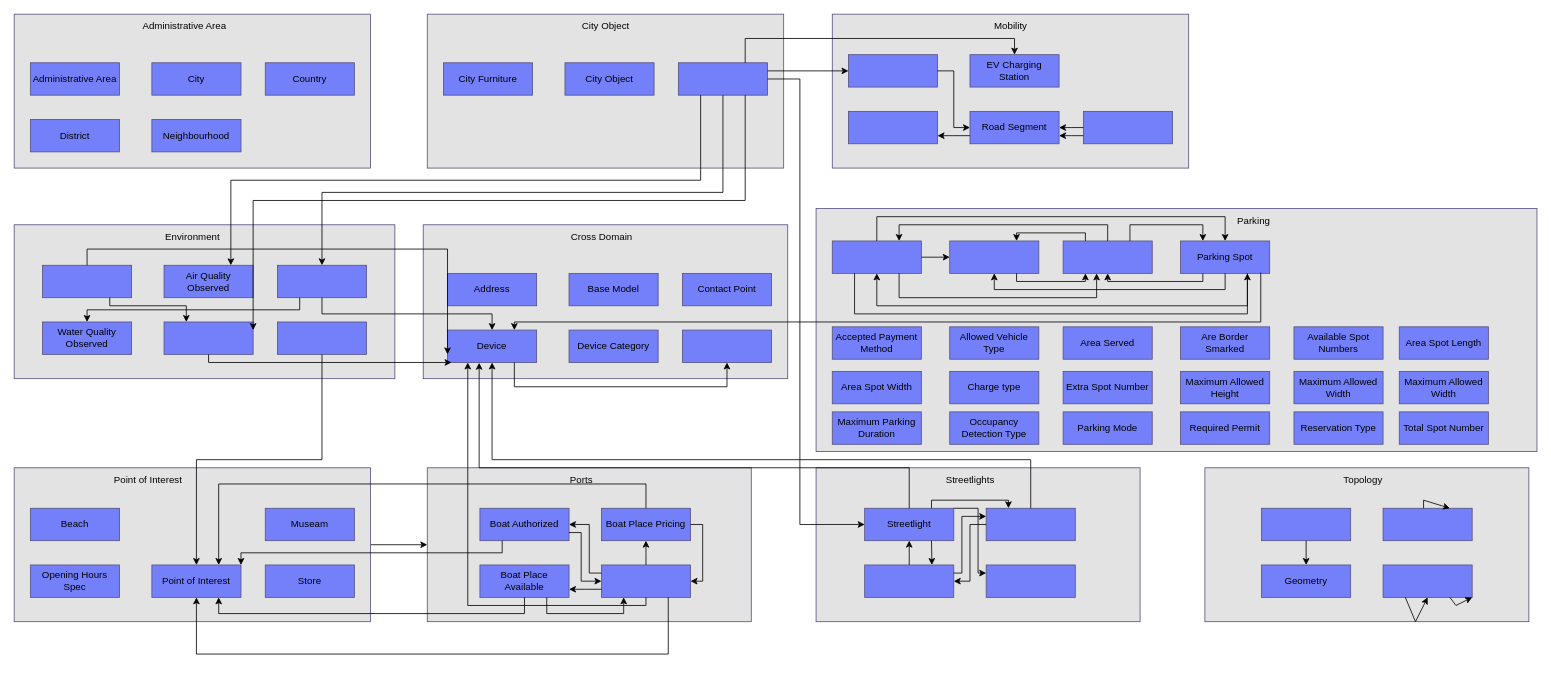
The diagram is 1551 pixels wide and 675 high, and some of its shapes have lost their labels. The shapes that lost their labels are listed below. From the top down, each one's centre as x and y in pixels, then its label:
At (x=722, y=78): "Pole".
At (x=893, y=70): "Crowd Flow Observed".
At (x=893, y=127): "Road".
At (x=1127, y=127): "Traffic Flow Observed".
At (x=876, y=256): "Off Street Parking".
At (x=994, y=256): "On Street Parking".
At (x=1107, y=256): "Parking Group".
At (x=87, y=281): "Air Quality Level".
At (x=322, y=281): "Noise Level Observed".
At (x=208, y=337): "Weather Observed".
At (x=322, y=337): "Environment Based Model".
At (x=727, y=345): "Device Model".
At (x=1030, y=524): "Streetlight Control Cabine".
At (x=1306, y=524): "Feature".
At (x=1427, y=524): "Geo Location".
At (x=646, y=580): "Seatport Facilities".
At (x=909, y=580): "Streelight Group".
At (x=1030, y=580): "Streetlight Model".
At (x=1427, y=580): "Spatial Object".
